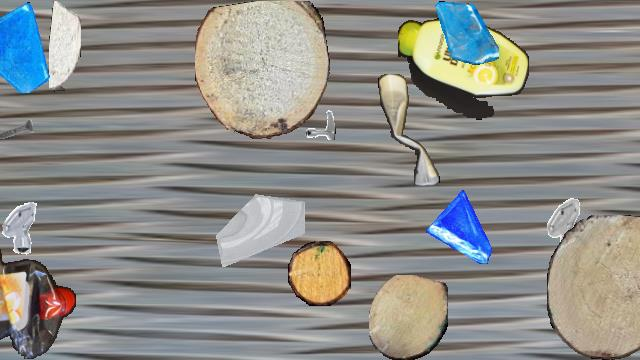glass: (212, 174, 304, 266), (426, 190, 500, 264), (0, 1, 54, 93), (435, 1, 499, 65)
metal: (533, 196, 593, 256), (0, 197, 46, 255), (294, 98, 336, 140), (0, 108, 35, 150)
plastic: (398, 18, 528, 120), (0, 245, 76, 359), (378, 74, 440, 186)
wood: (195, 1, 329, 139), (547, 215, 640, 359), (369, 275, 447, 359), (288, 241, 350, 305), (49, 1, 81, 91)
